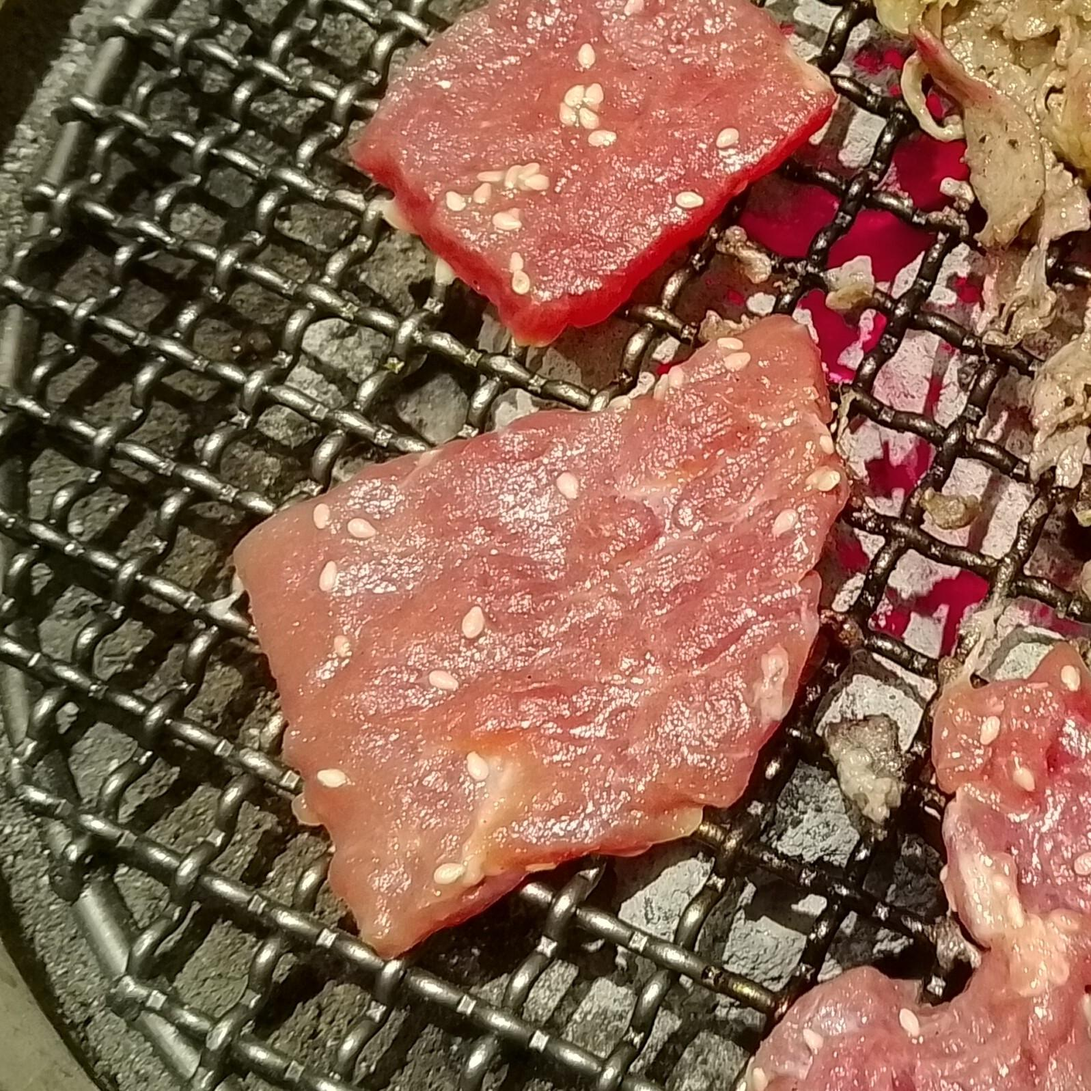Undercooked: (231, 315, 866, 961), (344, 0, 838, 348)
